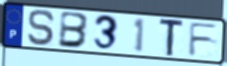1: (133, 17, 146, 54)
3: (92, 13, 122, 53)
B: (57, 10, 91, 49)
F: (187, 21, 220, 57)
S: (26, 8, 57, 47)
T: (158, 19, 186, 58)
